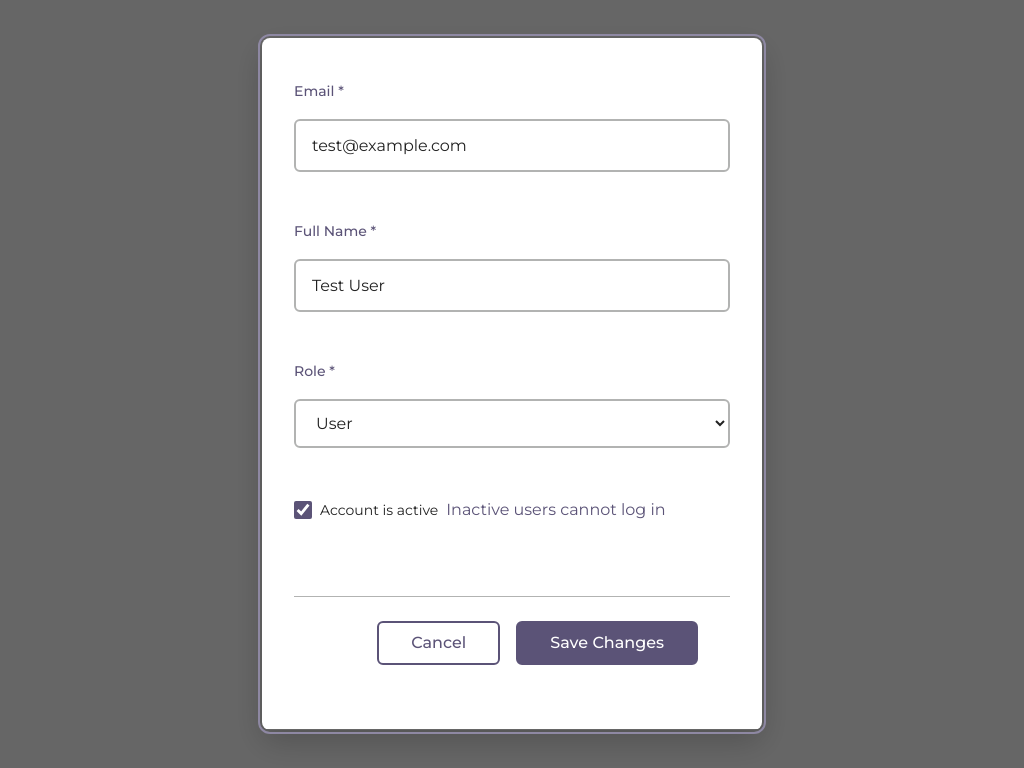
Test: EditUserDialog › Form Submission › shows error when no changes are detected
(page scrolled)
Note: Submit without changing anything
Click the button "Save Changes" at x=607, y=643, box [516, 621, 698, 665]
(page scrolled)
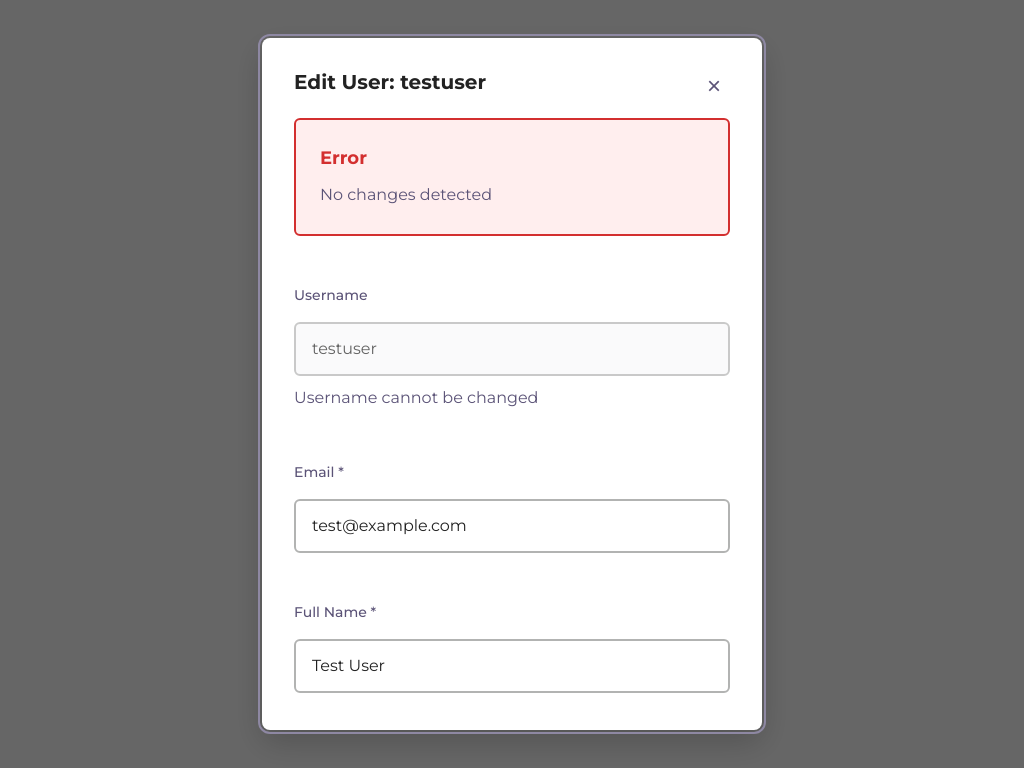
Expected: the text "No changes detected" is shown, [320, 181, 492, 210]
